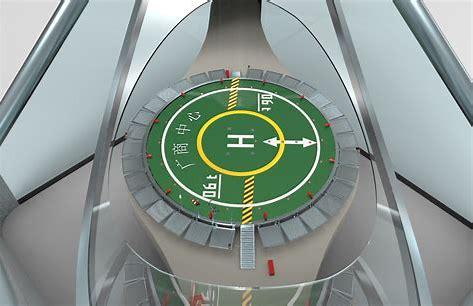H: (228, 134, 255, 147)
